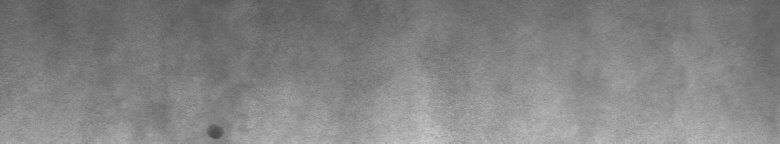fi: (201, 120, 230, 136)
